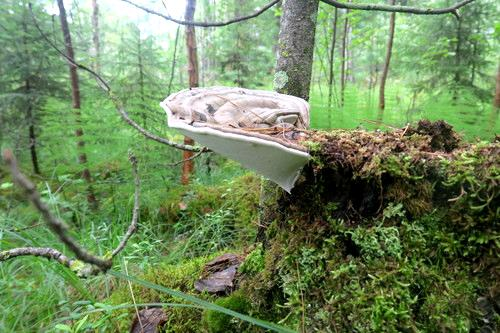Ganoderma - Fruit Body: (158, 87, 309, 191)
